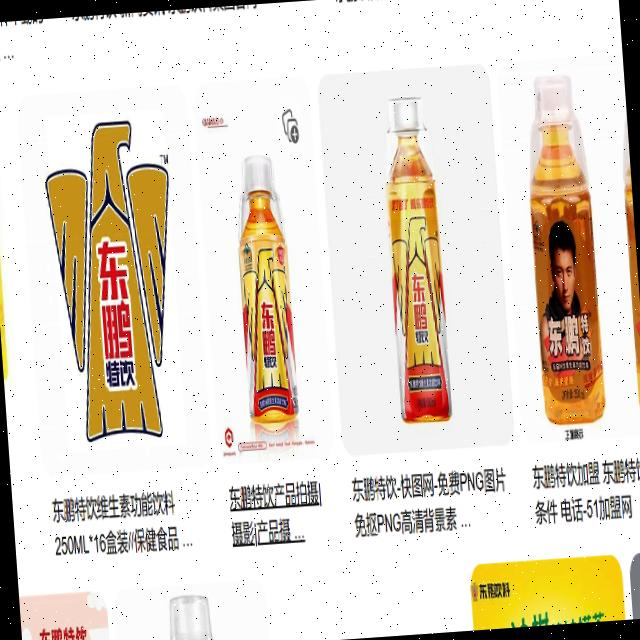dongpeng_special: (45, 109, 186, 452), (390, 216, 447, 376), (238, 244, 294, 404)
